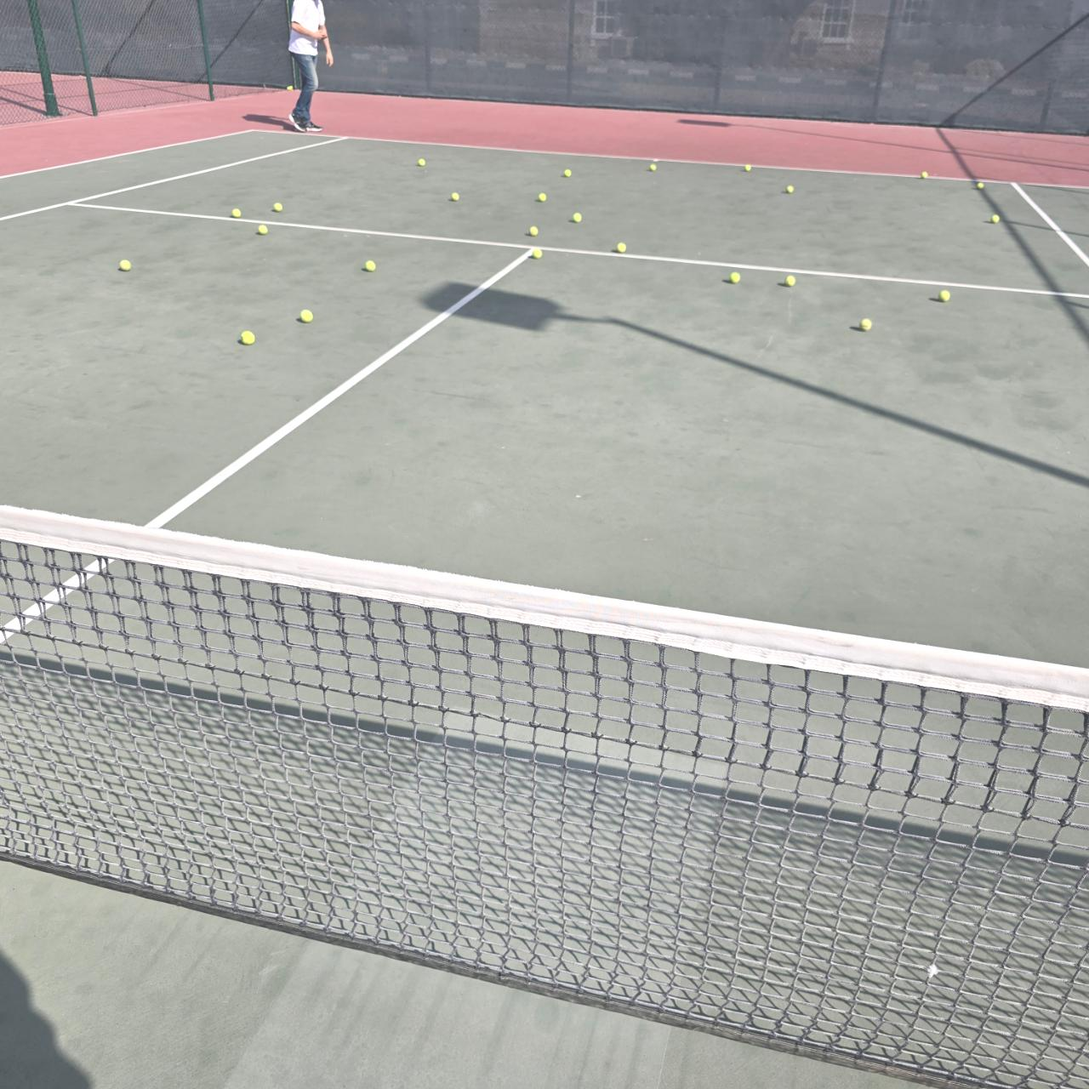tennis-ball: (240, 330, 255, 345), (300, 309, 313, 324), (859, 317, 872, 331), (938, 289, 951, 303), (119, 259, 132, 271), (784, 275, 796, 287), (365, 260, 376, 272), (730, 271, 741, 283), (258, 225, 269, 236), (532, 248, 543, 258), (617, 242, 627, 253), (572, 212, 582, 223), (231, 208, 242, 218), (273, 202, 283, 213), (451, 191, 460, 202), (529, 226, 538, 236), (990, 214, 1000, 223), (538, 193, 547, 202), (564, 169, 572, 178), (786, 185, 795, 193), (418, 158, 426, 167), (649, 164, 657, 171), (745, 164, 752, 172), (921, 171, 928, 179), (977, 182, 984, 189), (287, 85, 294, 91)
